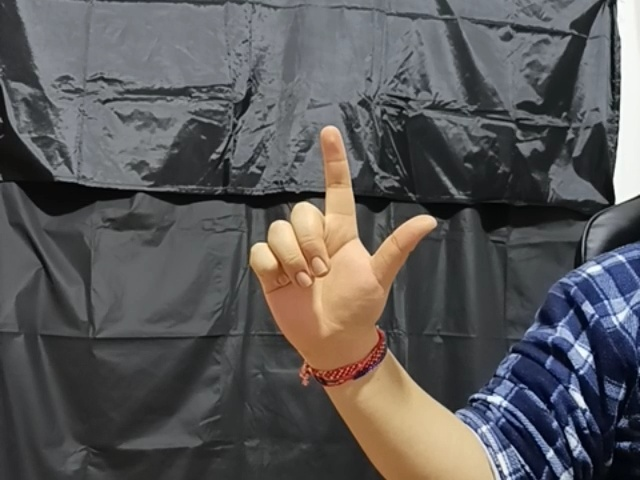L: (237, 121, 443, 353)
